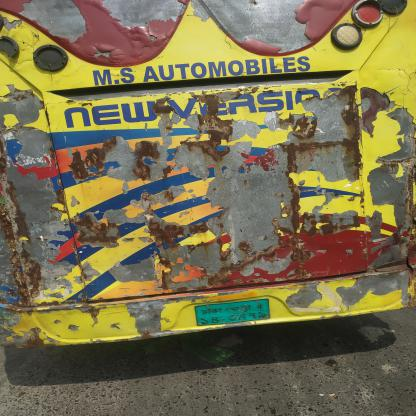license_plate: (191, 300, 274, 325)
